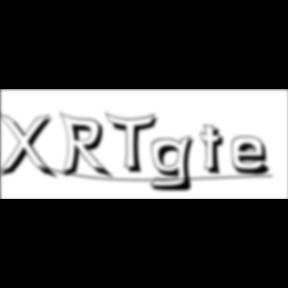R: (60, 112, 116, 182)
T: (105, 112, 163, 176)
X: (1, 112, 60, 182)
e: (232, 135, 278, 178)
g: (150, 134, 202, 194)
t: (200, 124, 232, 179)
